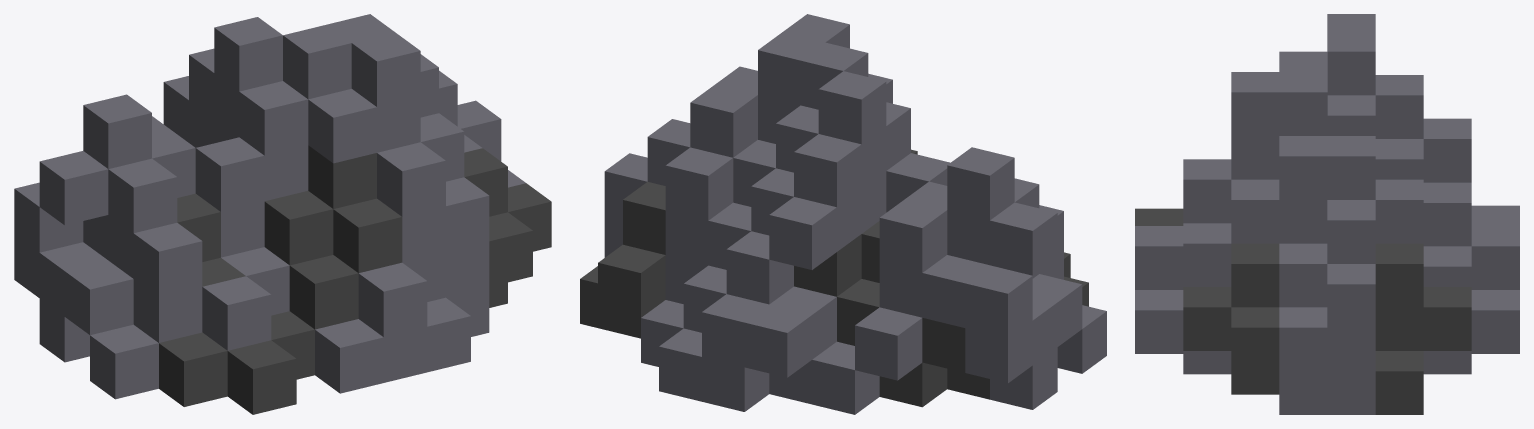
The model's file is cubeland1-27.obj.
The picture shows the model from 3 angles, left to right: view 1: azimuth 30°, elevation 25°; view 2: azimuth 150°, elevation 25°; view 3: azimuth 270°, elevation 25°; orthographic projection. The views are drawn at different scales.
Size of the model in its own units: 1 by 0.6 by 0.8.
1 material, 1 textured.
